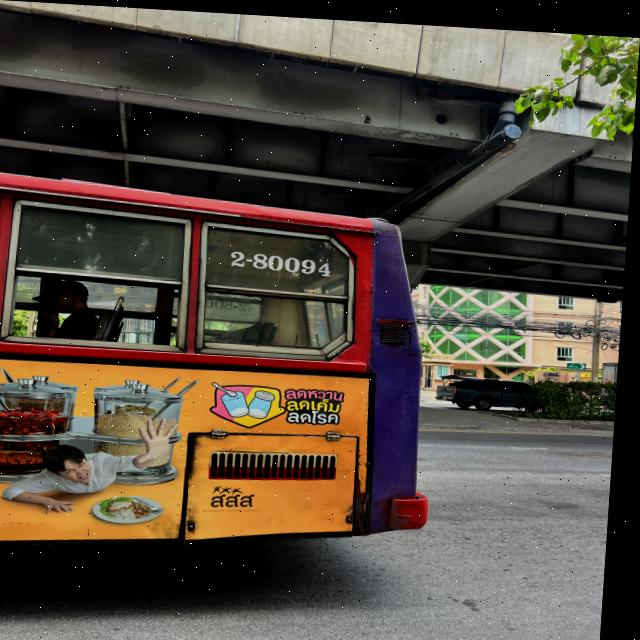BMTA-bus: (0, 164, 454, 571)
